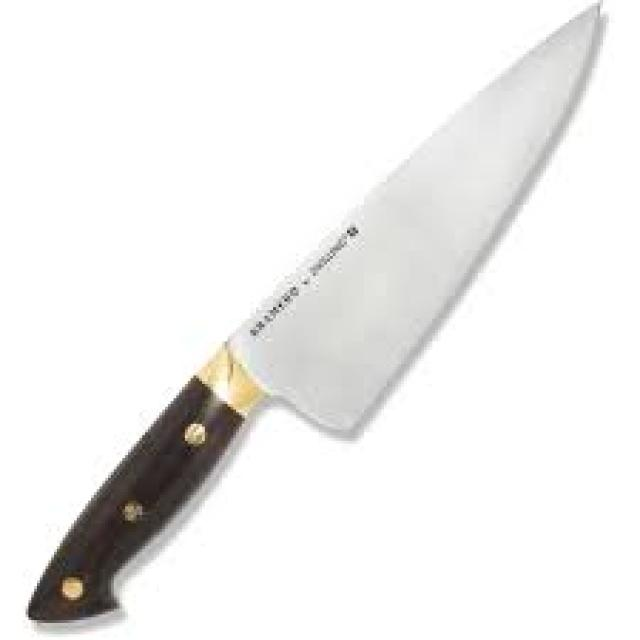knife: (20, 4, 630, 640)
